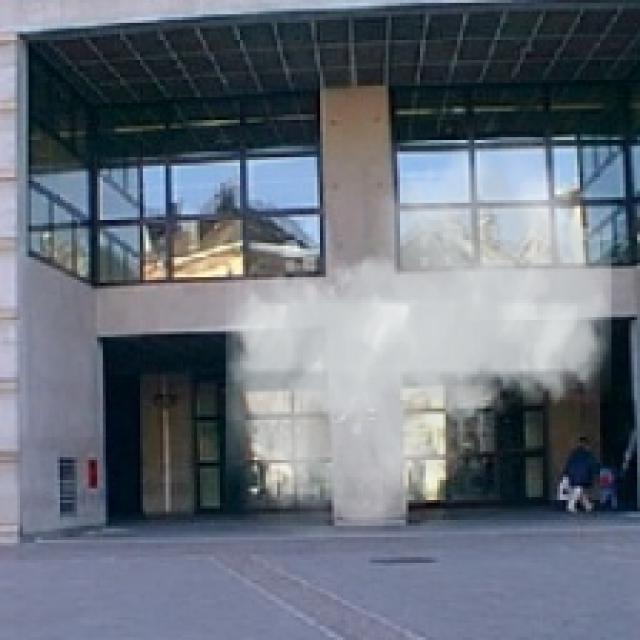smoke: (226, 137, 611, 537)
